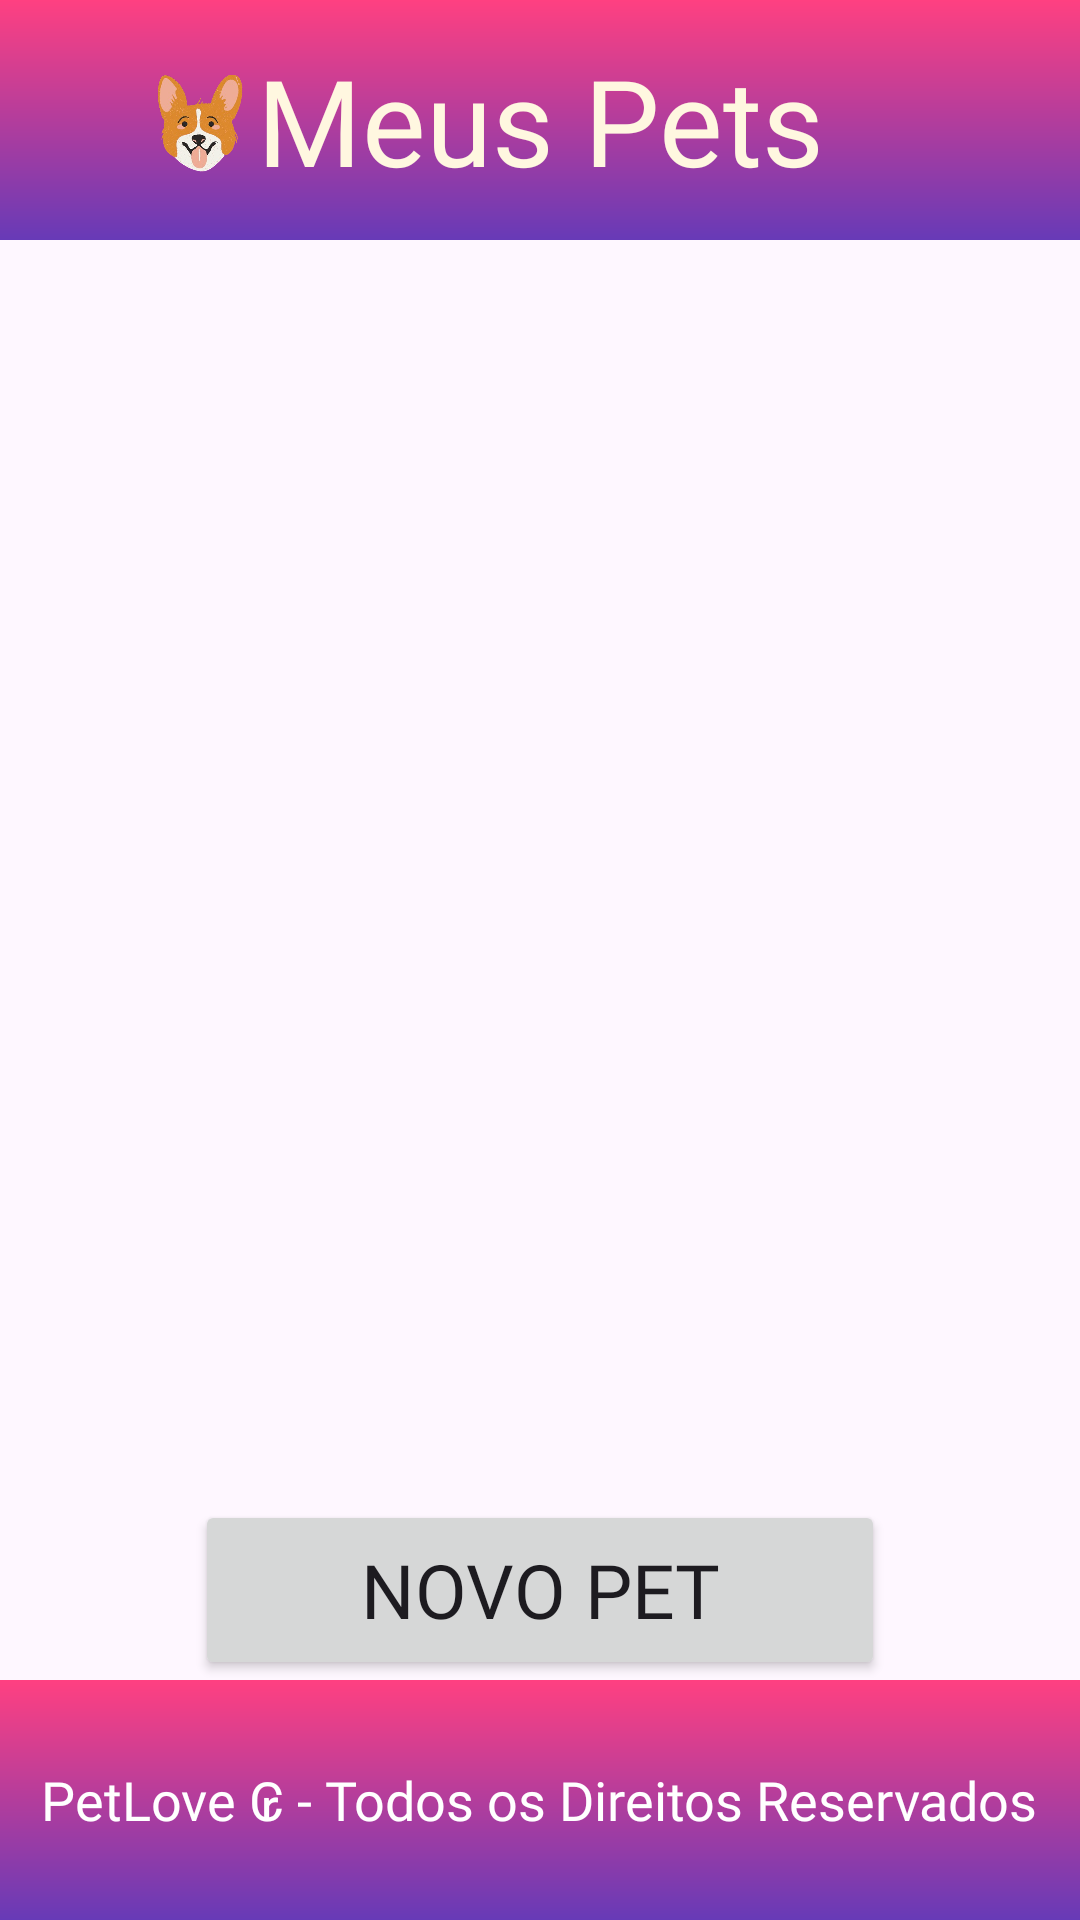

Icons on this 1080 × 1920 Android screen, each with the point to tap as (x=x, y=y):
petlove pet: (x=201, y=123)
